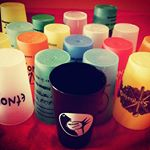cups: (47, 61, 110, 149), (110, 50, 150, 133), (31, 45, 72, 124), (1, 46, 37, 128)
